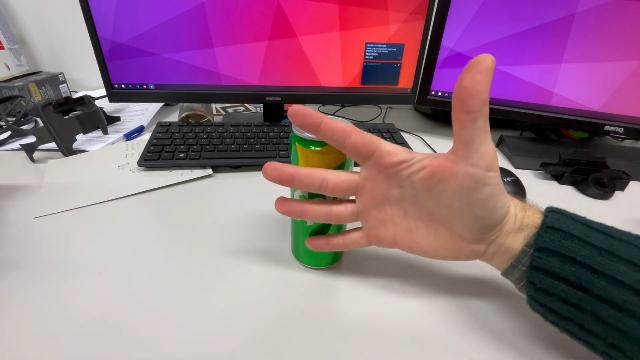Sprite: (288, 112, 358, 272)
